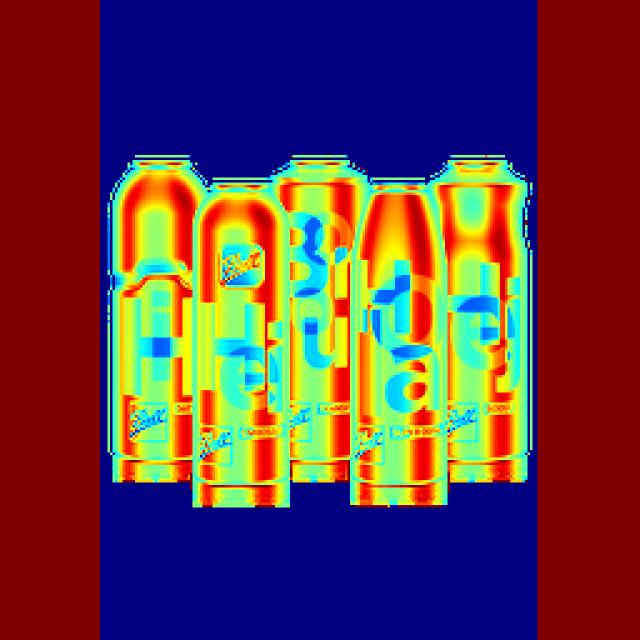Aerosol Cans: (193, 176, 303, 532), (441, 147, 539, 498), (274, 150, 373, 488), (107, 153, 203, 501), (360, 172, 456, 514)
